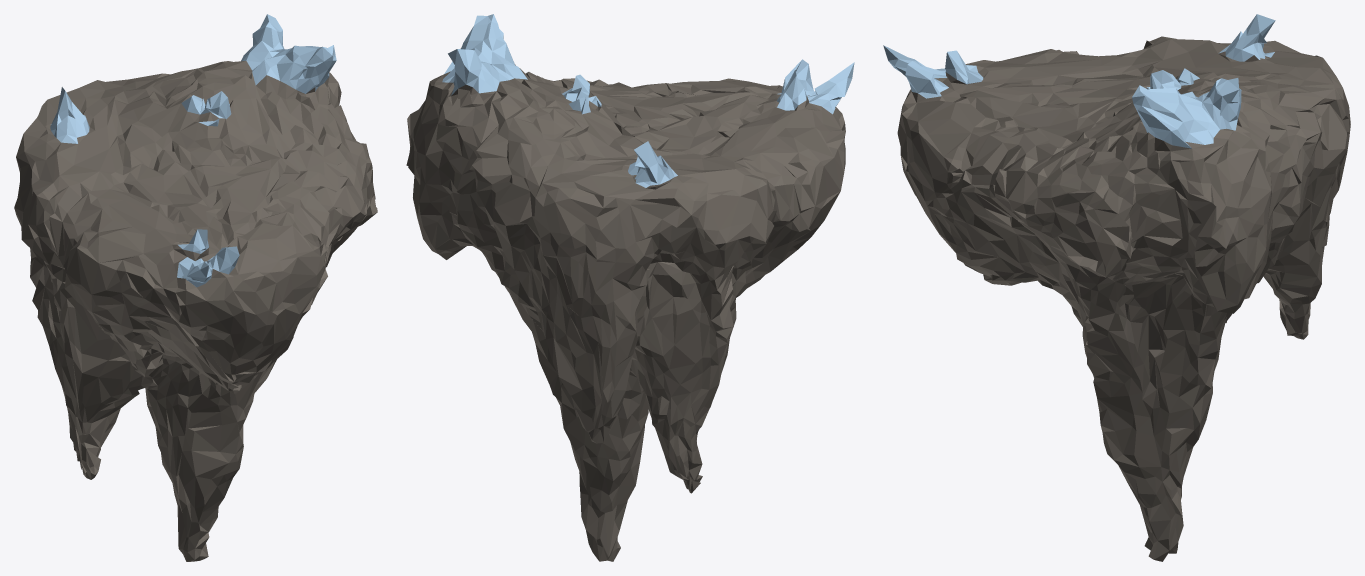
The model's file is Island_1.fbx.
3 renders of one model, left to right at view 1: azimuth 30°, elevation 25°; view 2: azimuth 150°, elevation 25°; view 3: azimuth 270°, elevation 25°, orthographic. The views are drawn at different scales.
Parts seen in each view (by area): view 1: sculptris_mesh27; view 2: sculptris_mesh27; view 3: sculptris_mesh27.
Boxes of the visible parts, x1,y1,x2,y2 form: sculptris_mesh27: (14, 14, 377, 561); sculptris_mesh27: (406, 14, 854, 561); sculptris_mesh27: (883, 14, 1350, 561).
Size of the model in its own units: 89.07 by 127 by 99.58.
